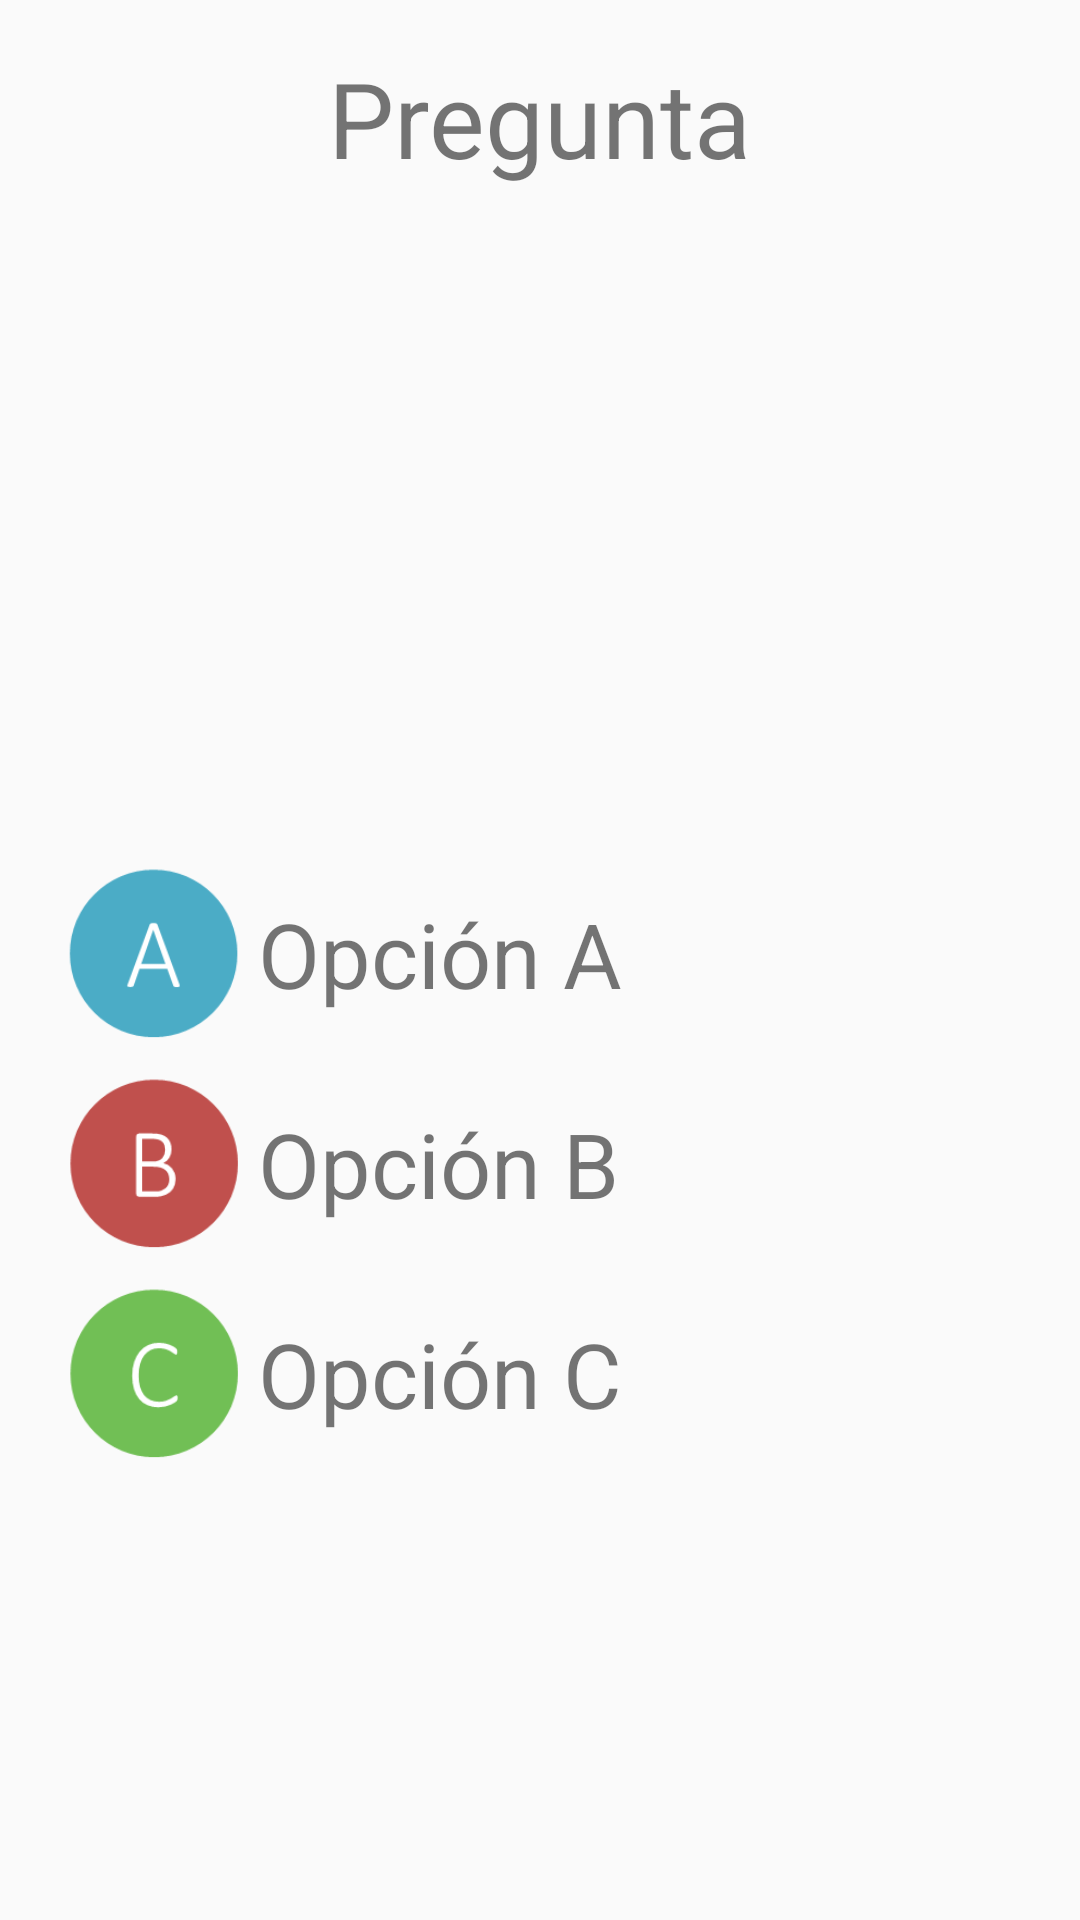

Icons on this 1080w x 1920h Android screen, each with the point to tap as point (x, y):
opcion: point (153, 953), point (154, 1163), point (154, 1373)
